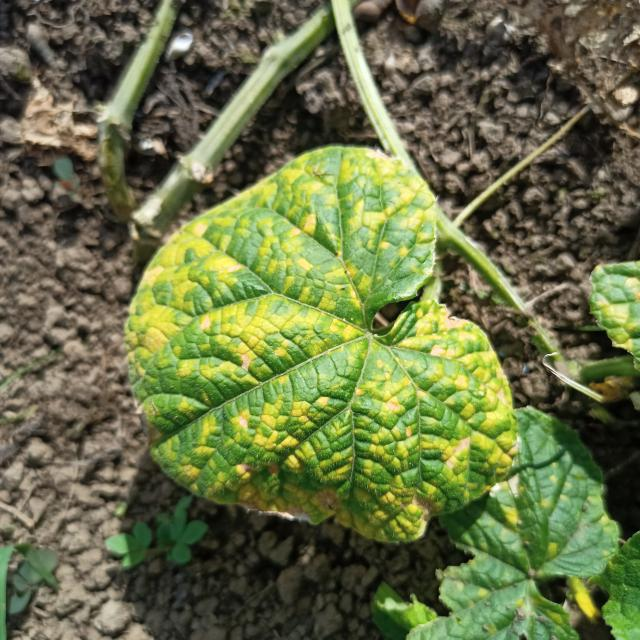disease_cucumber: (135, 145, 514, 530)
